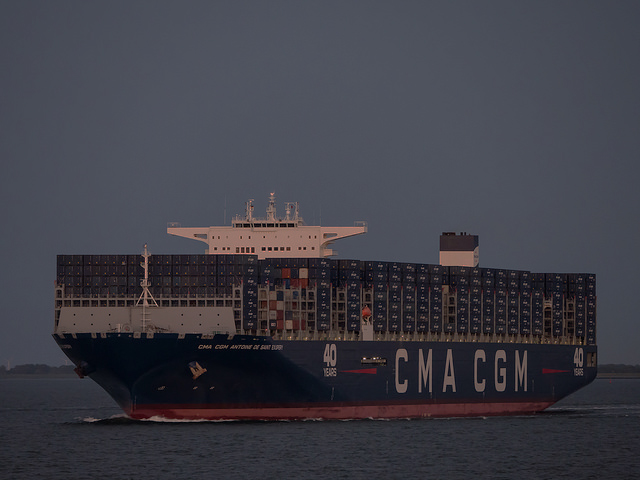container_ship: (50, 193, 604, 415)
